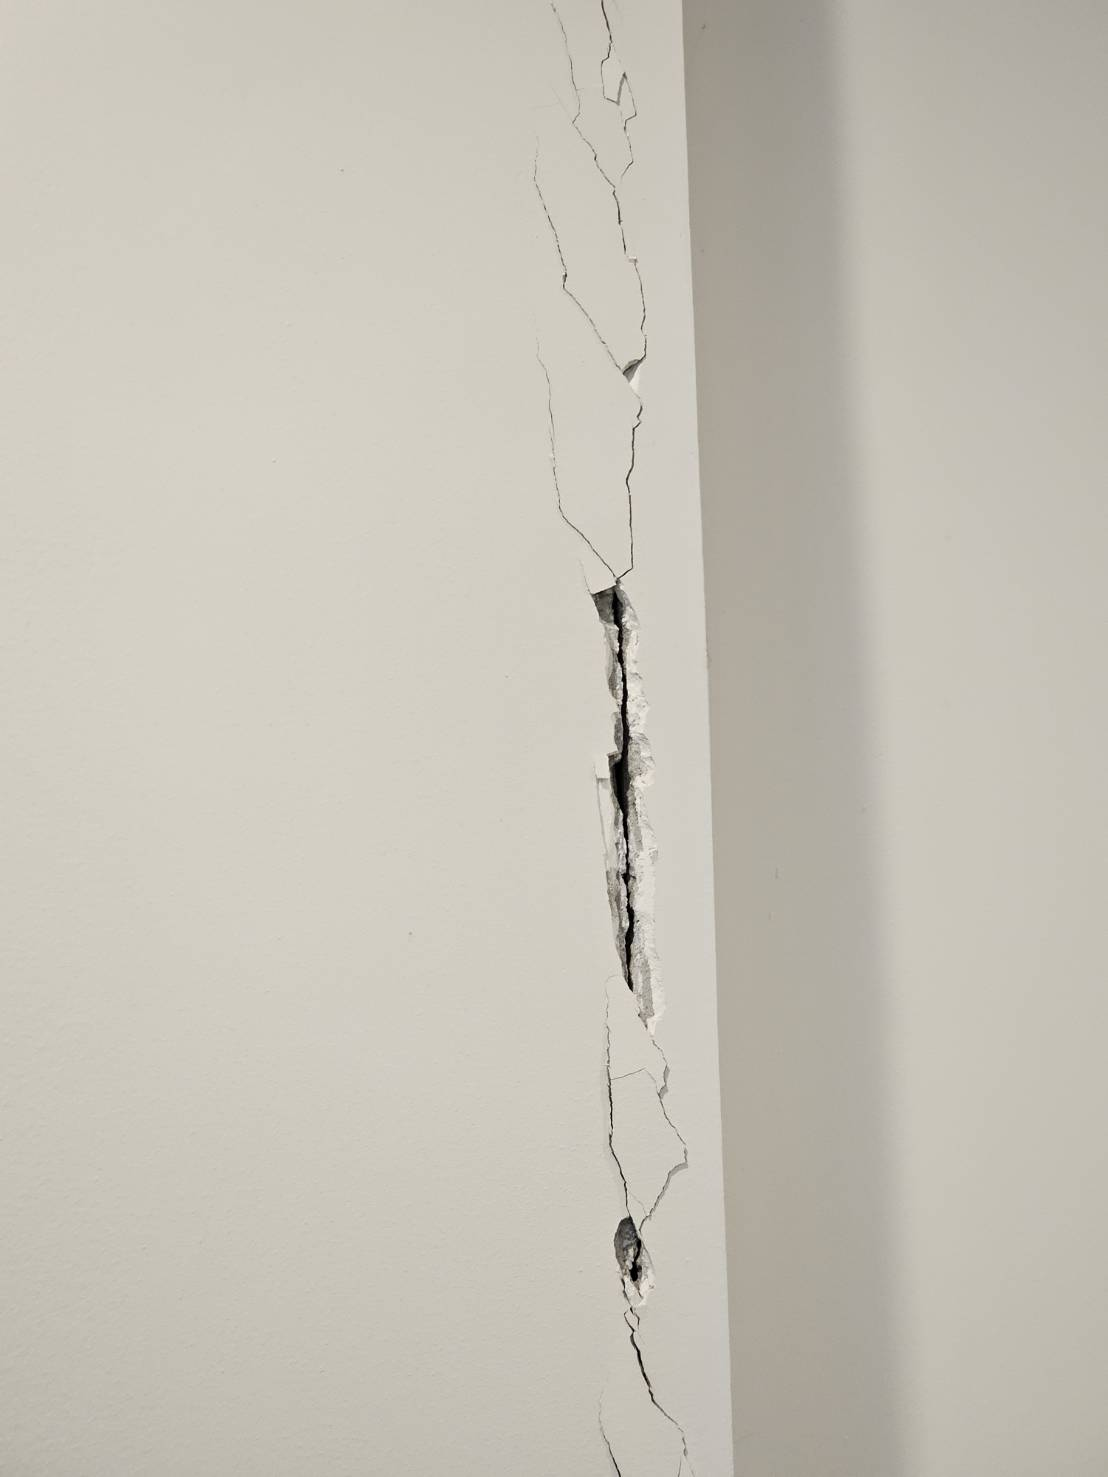High: (500, 3, 776, 1477)
